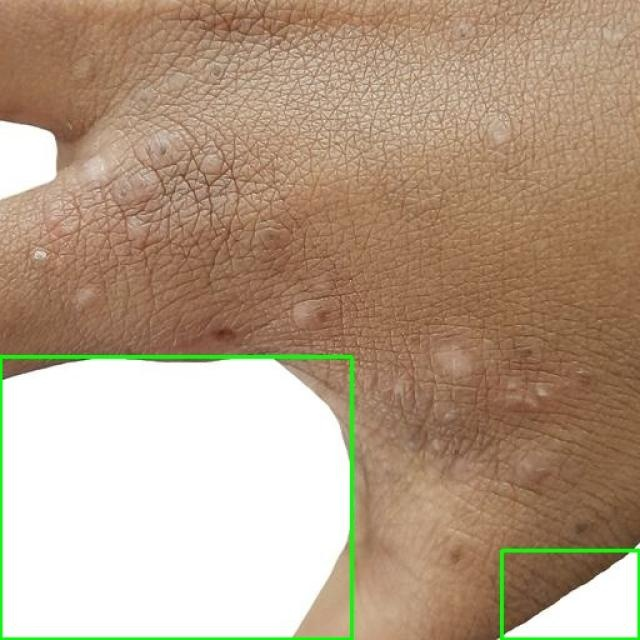Scabies: (0, 356, 351, 639), (501, 550, 639, 639)
